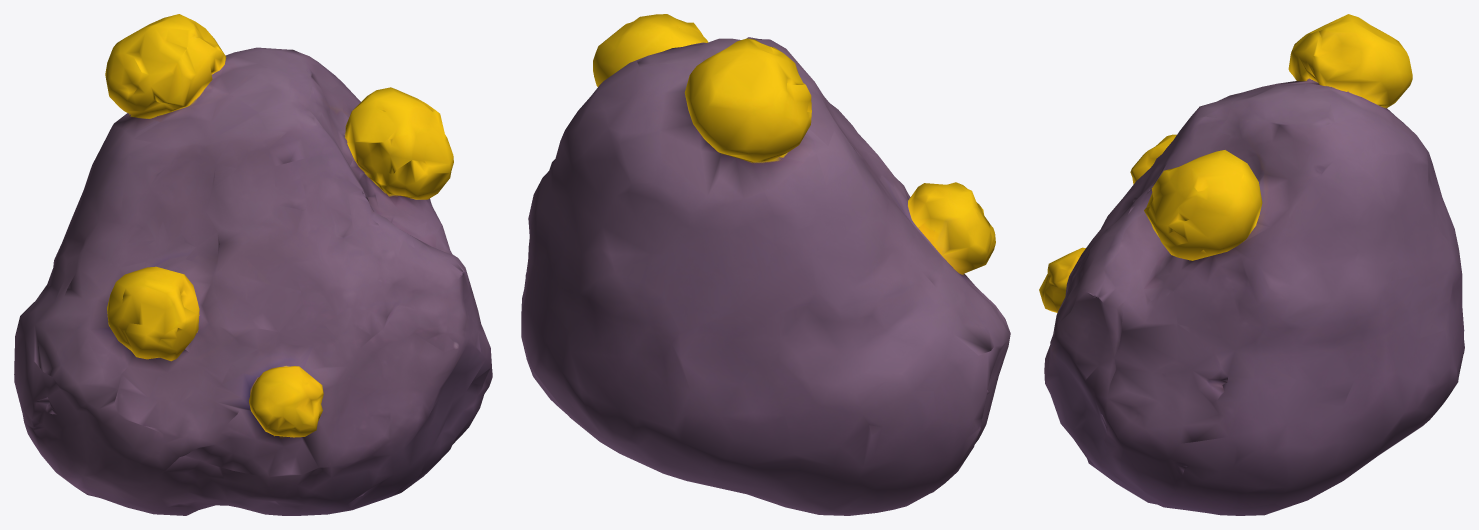
The model's file is kaya.glb.
The picture shows the model from 3 angles, left to right: view 1: azimuth 30°, elevation 25°; view 2: azimuth 150°, elevation 25°; view 3: azimuth 270°, elevation 25°; orthographic projection. The views are drawn at different scales.
Visible parts, largest first — view 1: tripo_node_966d957e-96e8-403f-96ca-c84ae6bf7111; view 2: tripo_node_966d957e-96e8-403f-96ca-c84ae6bf7111; view 3: tripo_node_966d957e-96e8-403f-96ca-c84ae6bf7111.
Part boxes in pixels (<box>): tripo_node_966d957e-96e8-403f-96ca-c84ae6bf7111: <box>14,14,492,515</box>; tripo_node_966d957e-96e8-403f-96ca-c84ae6bf7111: <box>521,14,1010,515</box>; tripo_node_966d957e-96e8-403f-96ca-c84ae6bf7111: <box>1039,14,1464,515</box>.
Bounding box in the file's own units: 1.33 × 1.3 × 1.17.
Materials: 1 (1 with a texture image).
